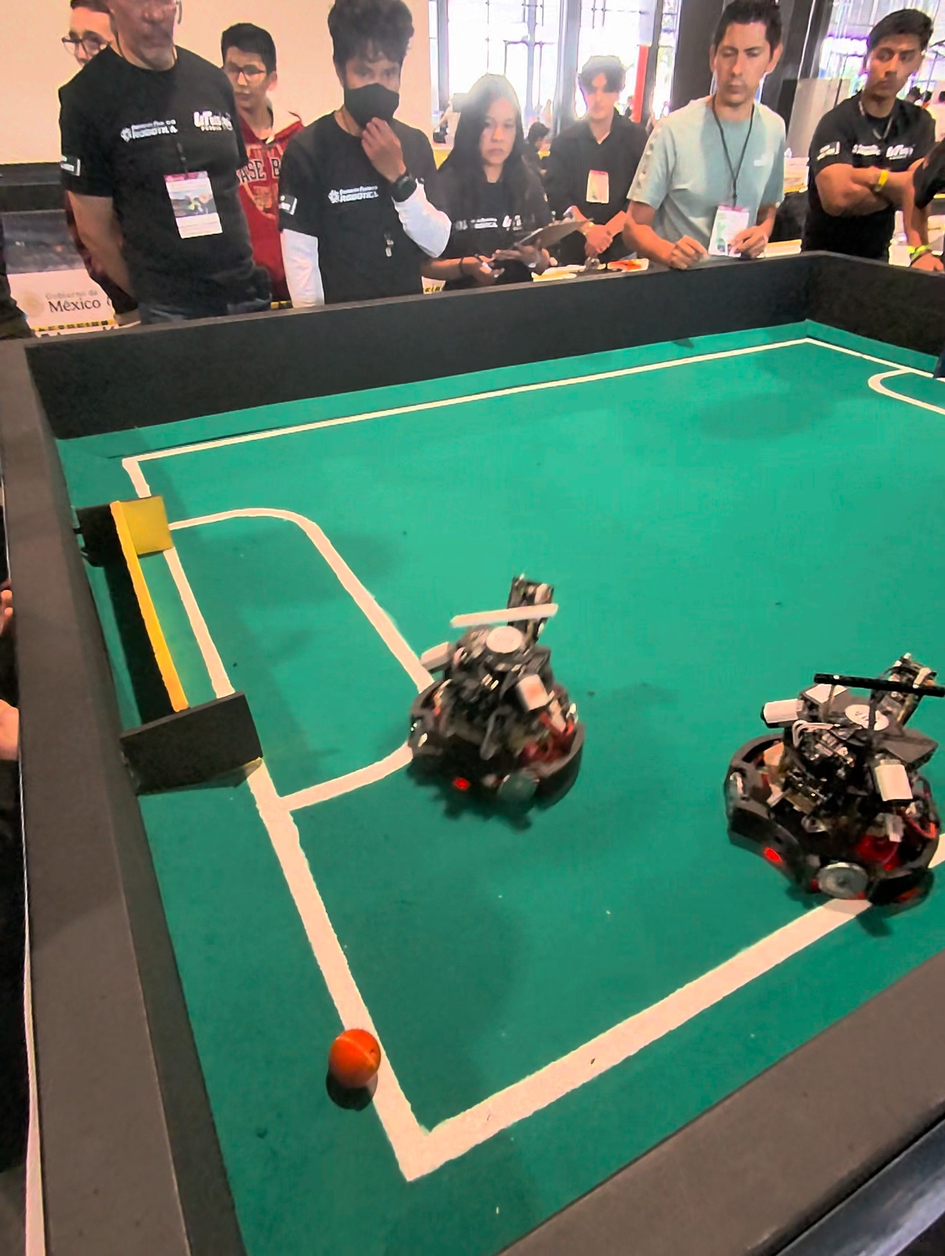Robot: (716, 636, 945, 918), (392, 583, 591, 840)
pelota: (328, 1032, 380, 1106)
